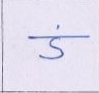anusvara: (57, 25, 60, 29)
